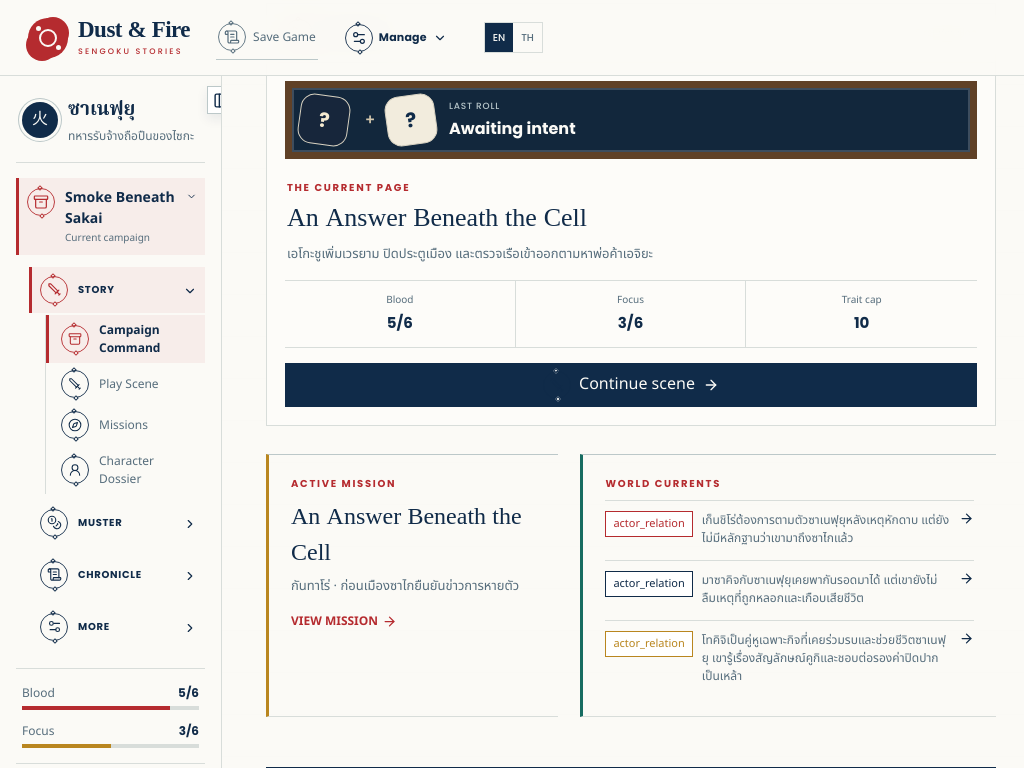
Test: UI Preview click flow › loads the 1569 Saika safehouse from Campaign Command into Play and Chronicle
(page scrolled)
Expected: the text "ซาเนฟุยุ" is shown, top-left (68, 95), bottom-right (135, 125)
Click the button with aria-label "Return to".
click(631, 385)  # box top-left (285, 363), bottom-right (977, 407)
(page scrolled)
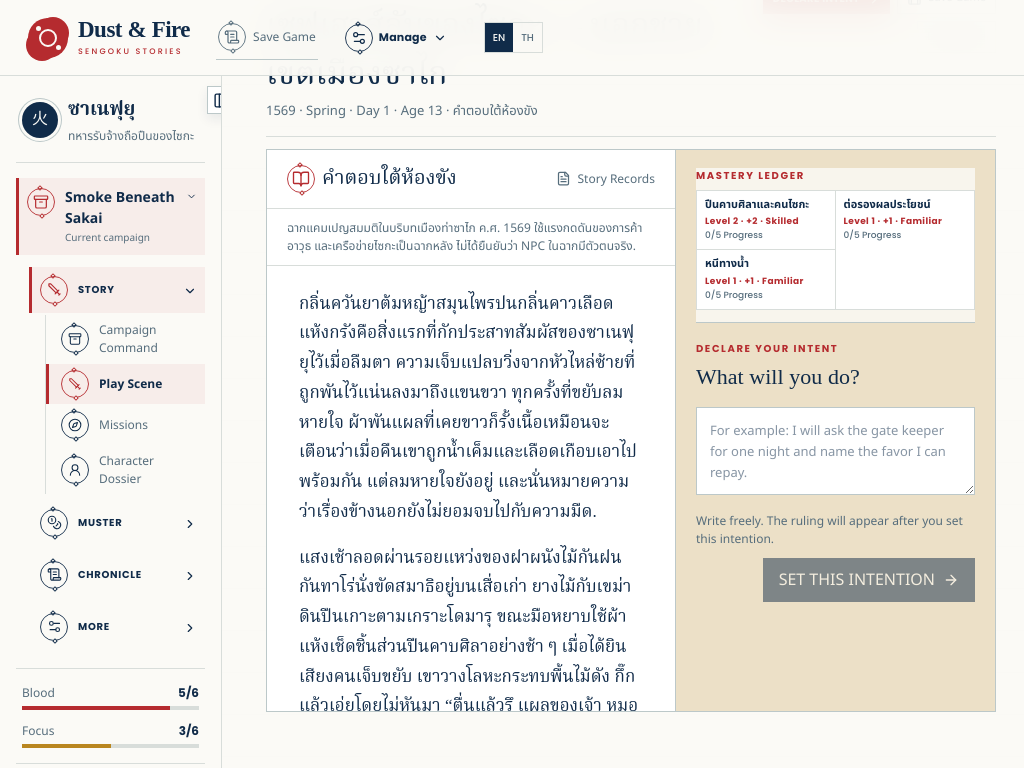
Expected: the text "คำตอบใต้ห้องขัง" is shown, top-left (287, 164), bottom-right (457, 194)
Click the button "Chronicle".
click(117, 574)  # box top-left (29, 552), bottom-right (205, 598)
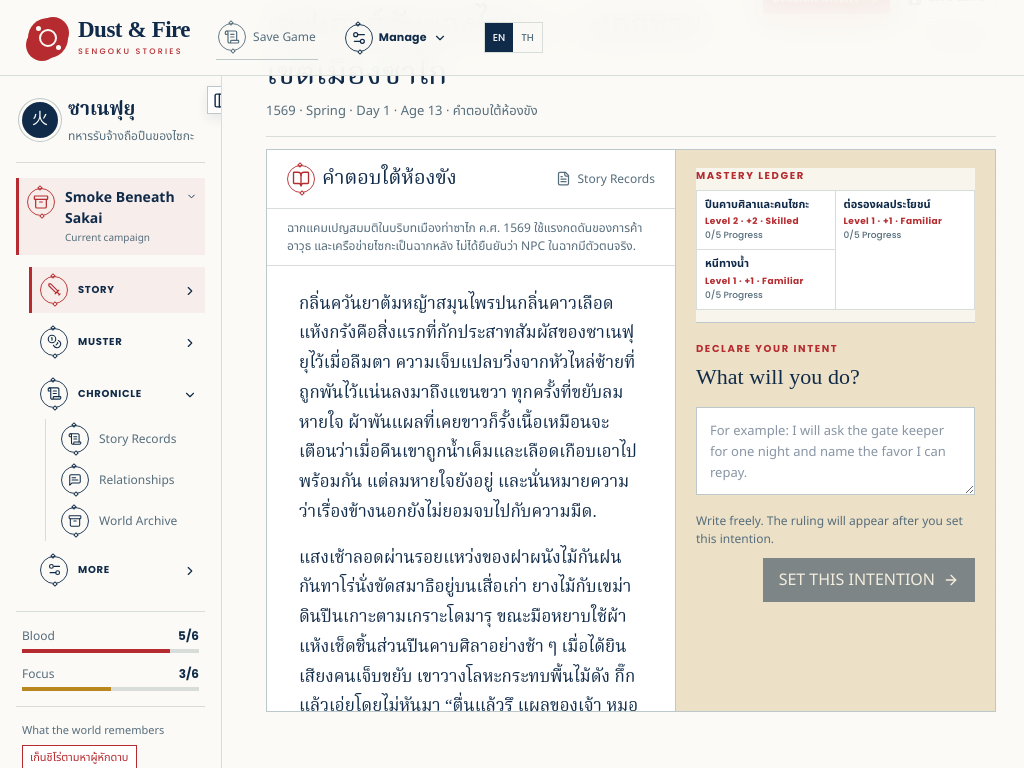
Click the button "Story Records" below "ทหารรับจ้างถือปืนของไซกะ".
click(126, 438)  # box top-left (46, 418), bottom-right (205, 458)
(page scrolled)
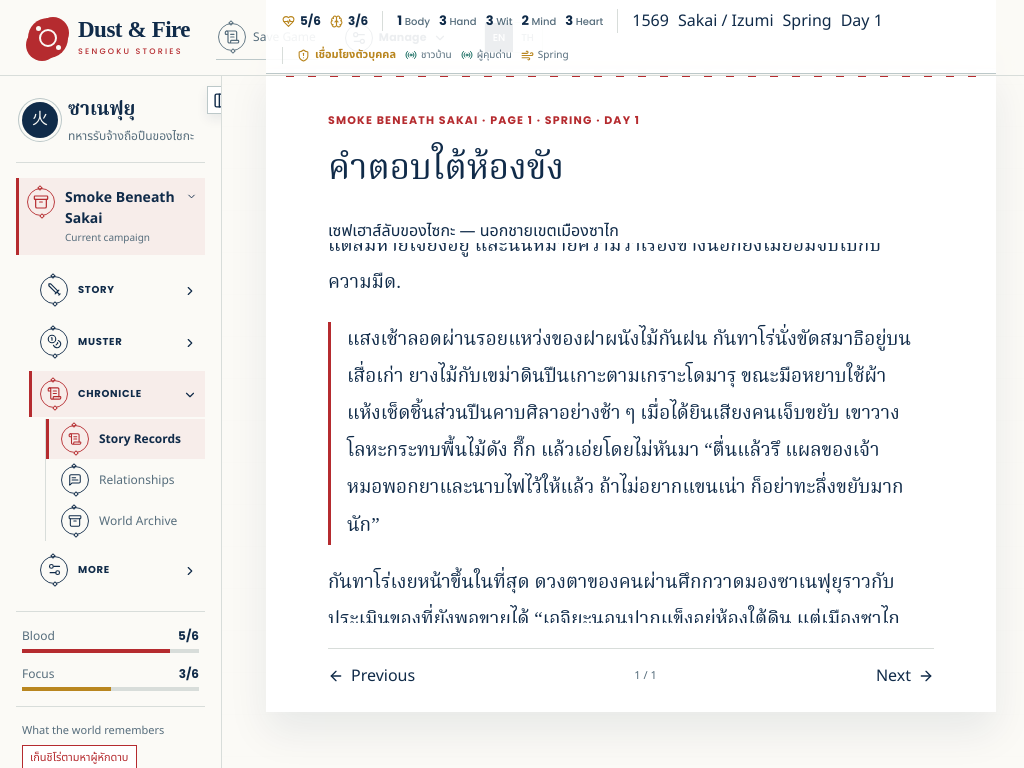
Expected: the heading "คำตอบใต้ห้องขัง" is shown, top-left (328, 142), bottom-right (564, 198)
Expected: the text "กันทาโร่" is shown, top-left (347, 325), bottom-right (911, 540)
